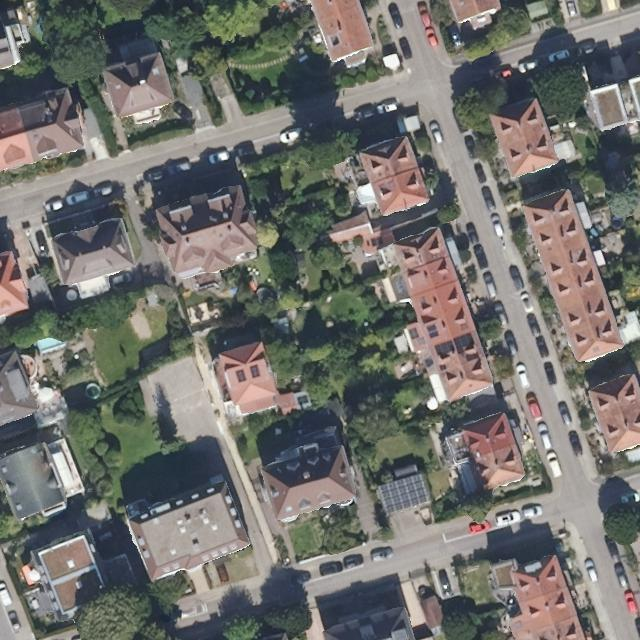PV: (452, 331, 478, 355), (434, 339, 457, 361), (426, 323, 440, 340), (234, 368, 248, 384), (248, 363, 262, 379)
